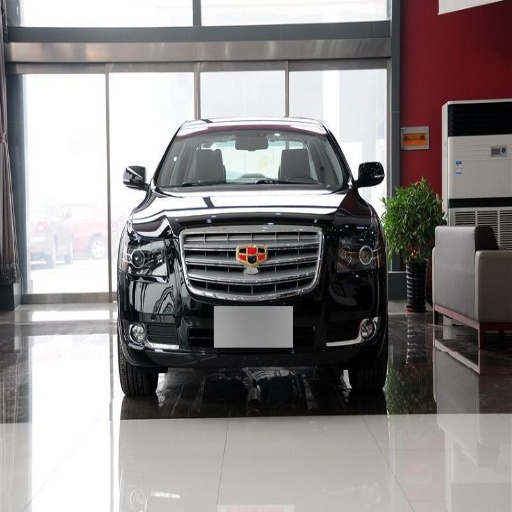front_bumper: (126, 210, 384, 382)
front_right_light: (126, 217, 173, 279)
hood: (141, 186, 371, 232)
